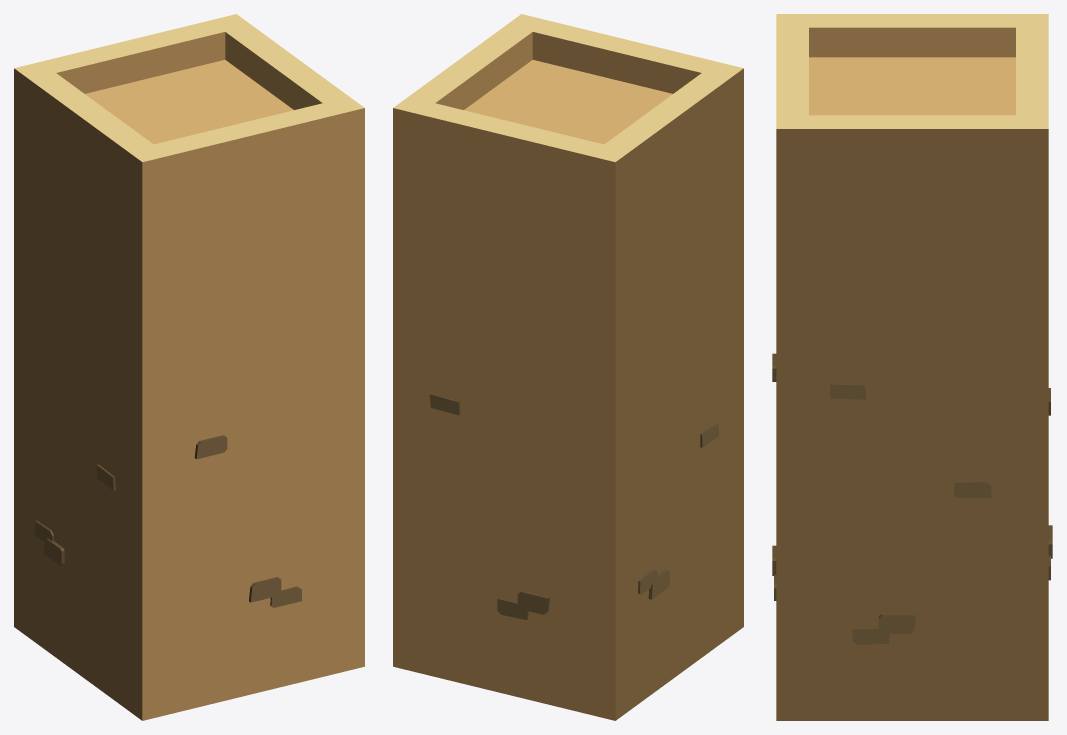
File: TB_D_Bd_Tower_A_Yel.FBX
The picture shows the model from 3 angles, left to right: view 1: azimuth 30°, elevation 25°; view 2: azimuth 150°, elevation 25°; view 3: azimuth 270°, elevation 25°; orthographic projection. The views are drawn at different scales.
Visible parts, largest first — view 1: TB_D_Bd_Tower_A_Yel; view 2: TB_D_Bd_Tower_A_Yel; view 3: TB_D_Bd_Tower_A_Yel.
Part boxes in pixels (x1=…): TB_D_Bd_Tower_A_Yel: x1=14, y1=14, x2=364, y2=720; TB_D_Bd_Tower_A_Yel: x1=393, y1=14, x2=743, y2=720; TB_D_Bd_Tower_A_Yel: x1=772, y1=14, x2=1052, y2=720.
Size of the model in its own units: 2.57 by 6 by 2.57.
